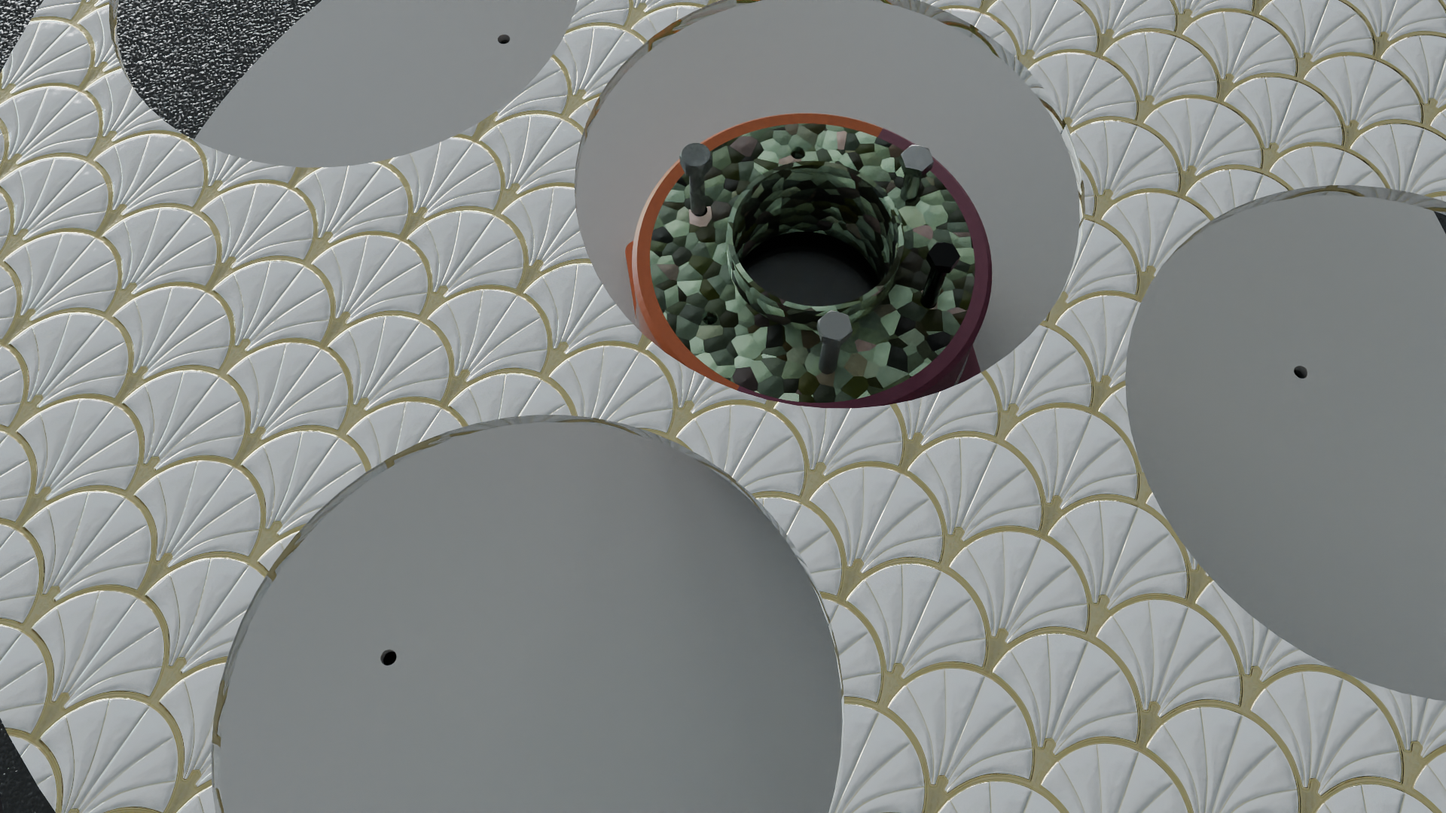bolt: (818, 310, 853, 342), (901, 145, 934, 172), (679, 143, 712, 169), (928, 242, 960, 267)
